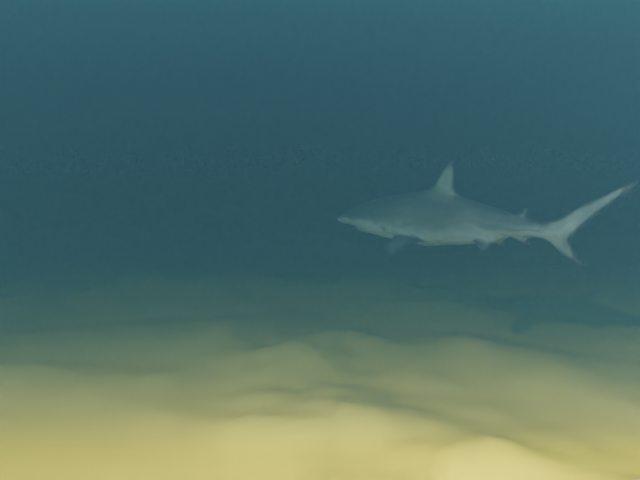Carribean Shark.001: (336, 160, 639, 265)
